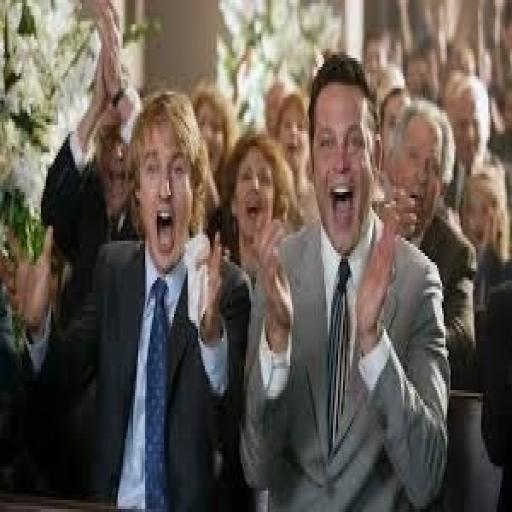clapping: (0, 49, 288, 512), (253, 62, 486, 512)
